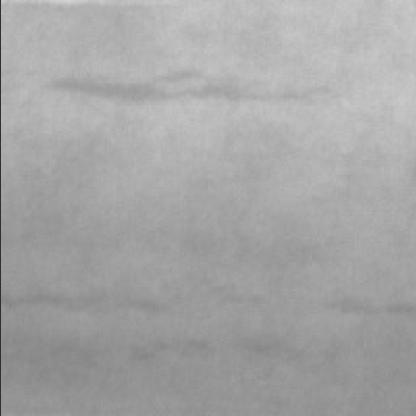inclusion: (27, 61, 335, 119), (21, 278, 172, 321), (310, 284, 416, 324)
